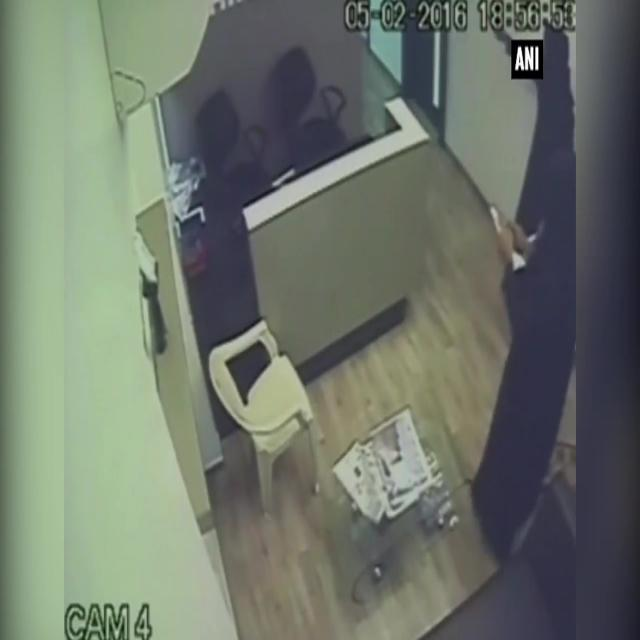Weapon: (483, 197, 525, 261), (479, 12, 523, 68)
